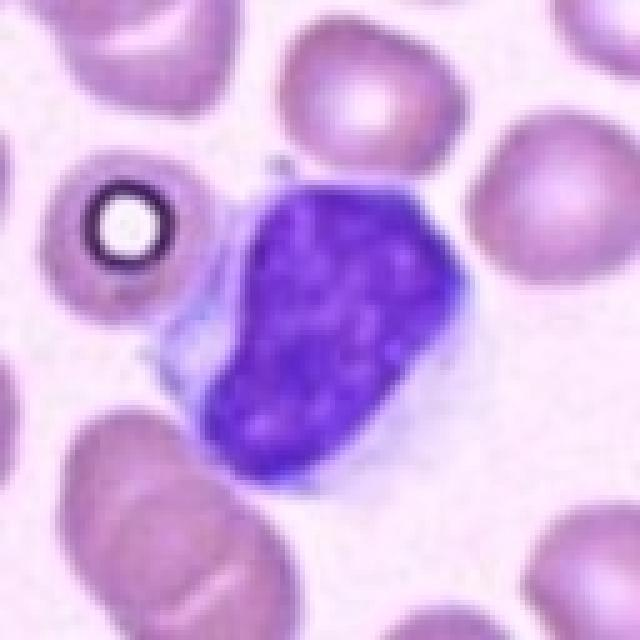lympho: (138, 173, 484, 501)
